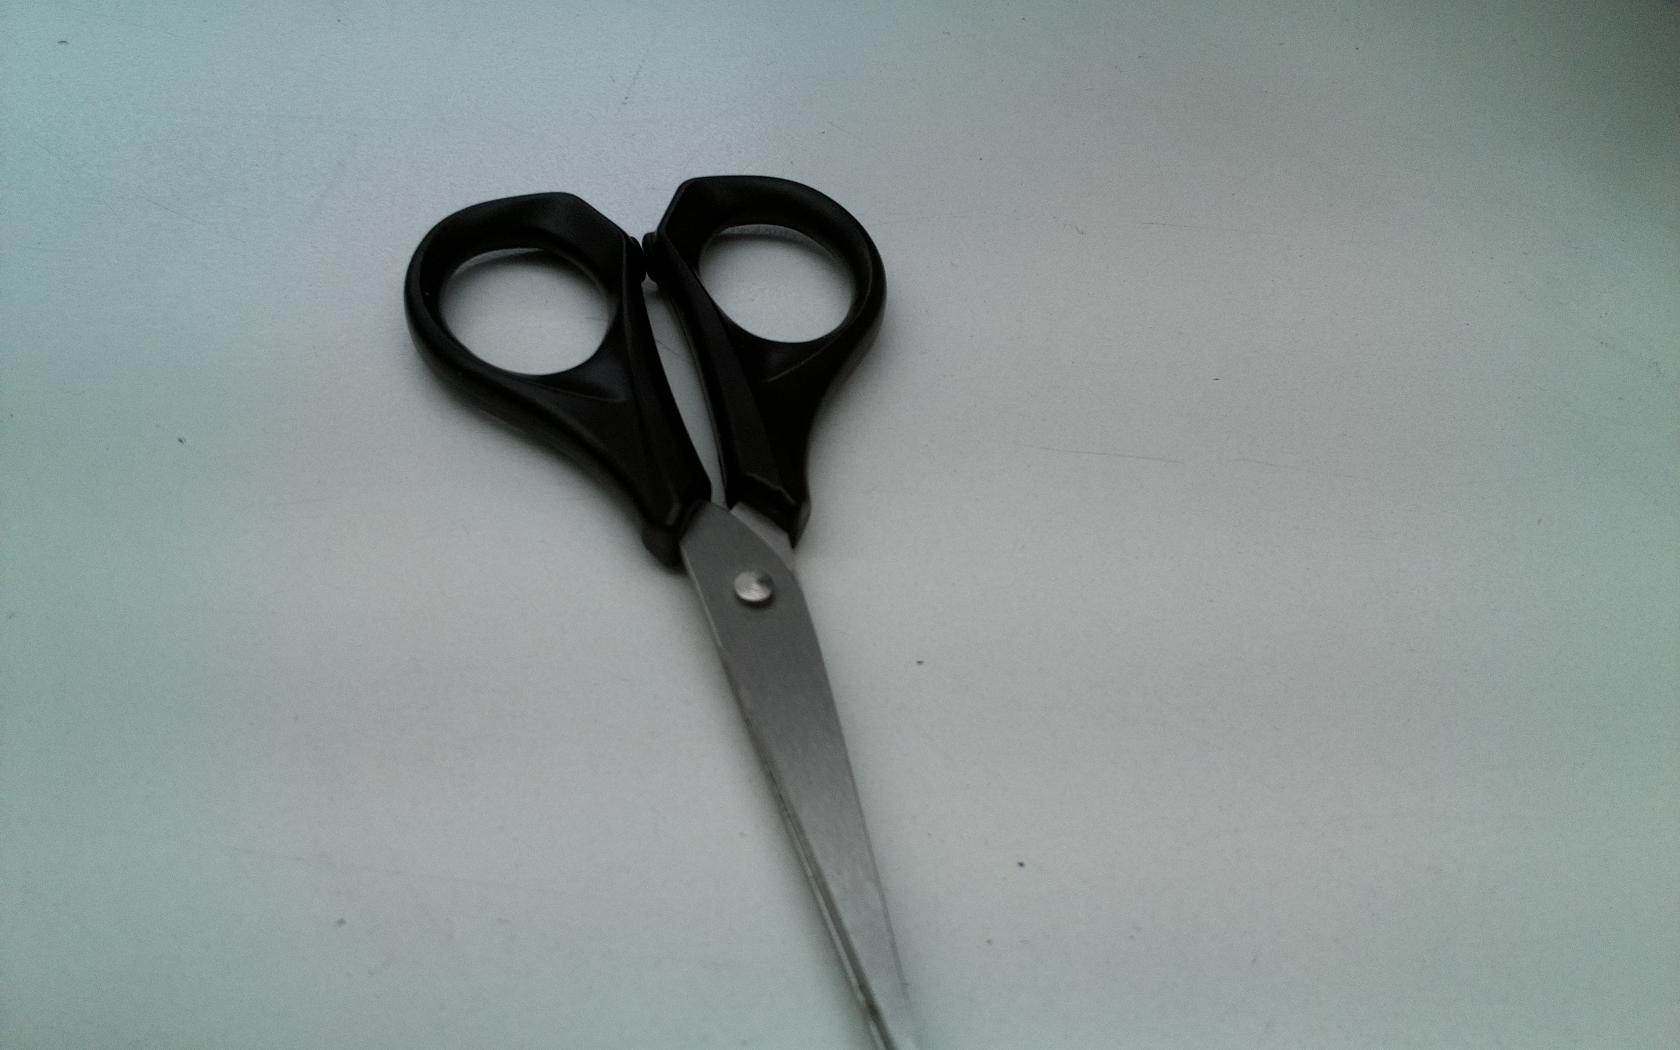scissors: (386, 161, 920, 1050)
